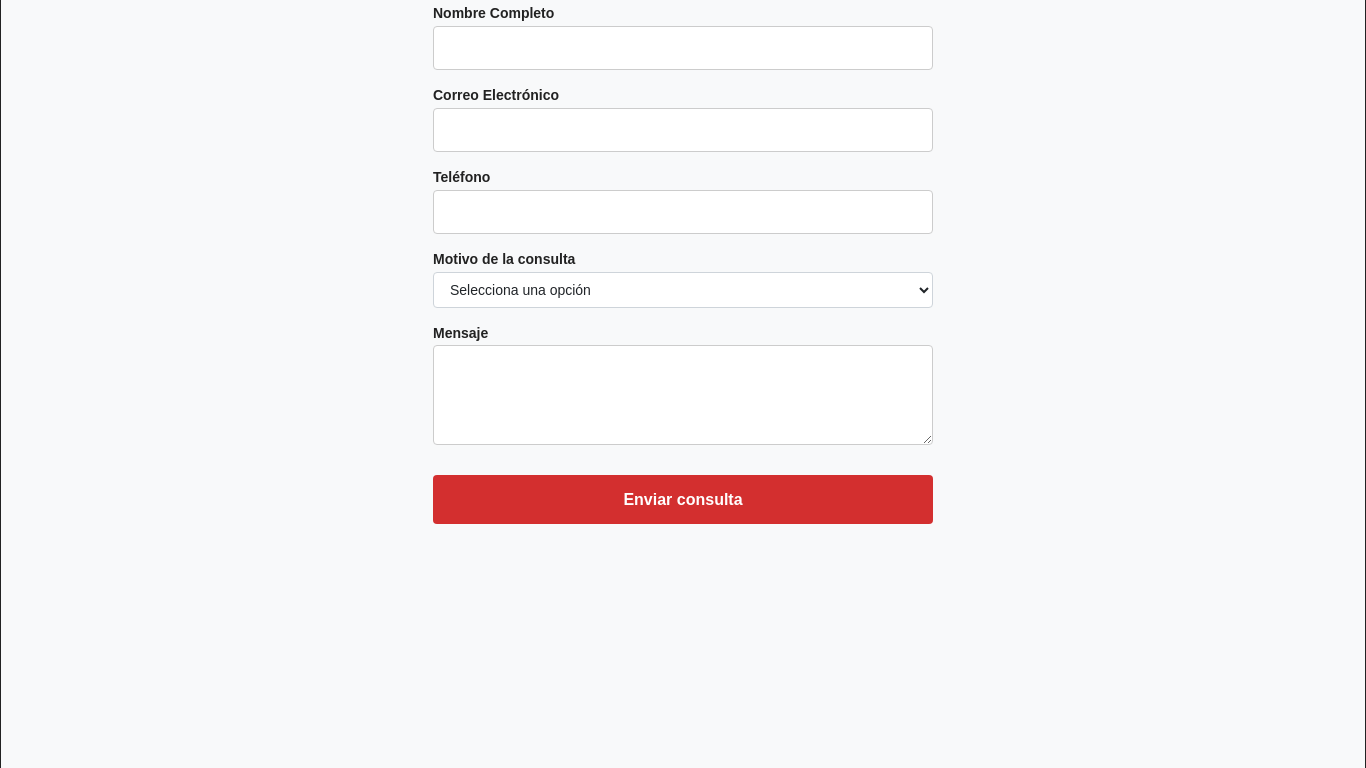
Scenario: FormularioContacto › validación en vivo › marca el nombre como inválido con 1 carácter y lo corrige con 2
Type "C" into the field labelled "Nombre Completo".
click(683, 48); type("C")  # box [433,26,933,70]
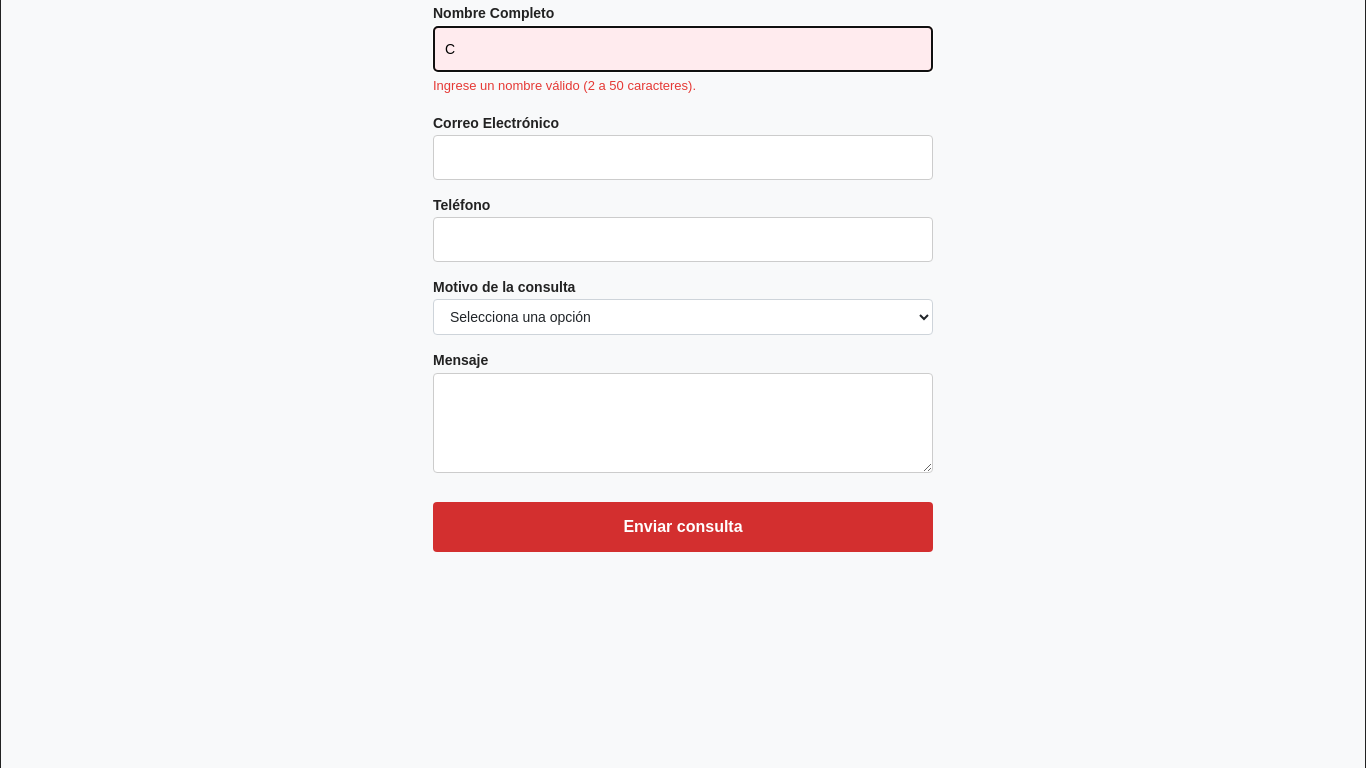
Expected: the text "Ingrese un nombre válido (2 a 50 caracteres)." is shown, [433,78,696,93]
Type "a" into the field labelled "Nombre Completo".
click(683, 49); type("a")  # box [433,26,933,72]
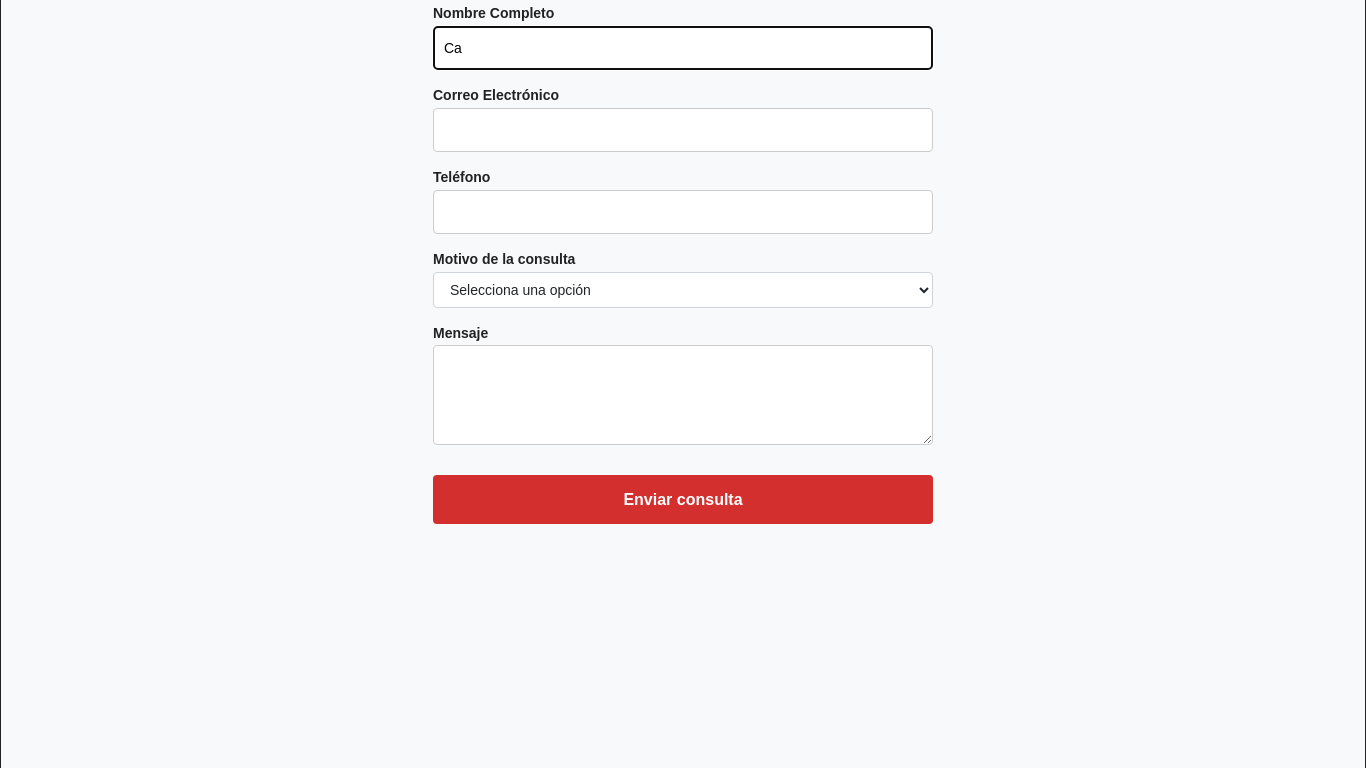
Expected: the text "Ingrese un nombre válido (2 a 50 caracteres)." is gone
